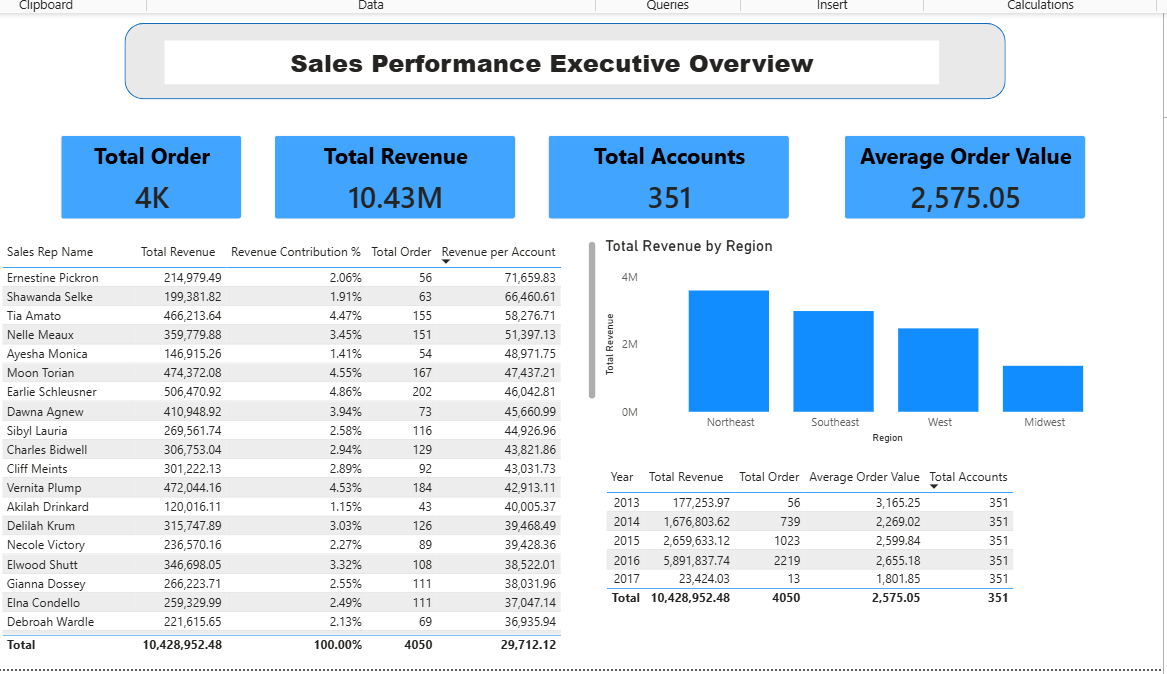

This screenshot's page, from the dashboard's own definition file:
{"tool":"powerbi","page":{"name":"Sales Performance Executive Overview","canvas":[1280,720],"ordinal":0},"visuals":[{"type":"shape","box":[140,11,967.4,83.7],"z":1000,"group":"g1"},{"type":"cardVisual","fields":{"Data":["orders.total order"]},"box":[52.1,116.6,234.6,127.6],"z":1000},{"type":"textbox","box":[183.9,30.2,850.8,48],"z":2000,"group":"g1"},{"type":"cardVisual","fields":{"Data":["orders.Total Revenue"]},"box":[286.8,116.6,300.5,127.6],"z":2000},{"type":"cardVisual","fields":{"Data":["accounts.Total Accounts"]},"box":[587.3,116.6,300.5,127.6],"z":3000},{"type":"cardVisual","fields":{"Data":["orders.Average Order Value"]},"box":[912.5,116.6,300.5,127.6],"z":4000},{"type":"clusteredColumnChart","title":"Total Revenue by Region","fields":{"Category":["region.name"],"Y":["orders.Total Revenue"]},"box":[662.8,245.6,584.6,231.9],"z":5000},{"type":"group","id":"g1","title":"Group 1","box":[140,11,967.4,83.7],"z":7000},{"type":"tableEx","fields":{"Values":["DateTable.Date.Variation.Date Hierarchy.Year","orders.Total Revenue","orders.Total Order","orders.Average Order Value","accounts.Total Accounts"]},"box":[662.8,492.6,550.3,227.8],"z":7001},{"type":"tableEx","fields":{"Values":["sales_reps.Sales Rep Name","orders.Total Revenue","orders.Revenue Contribution %","orders.Total Order","orders.Revenue per Account"]},"box":[0,245.6,662.8,462.4],"z":7002}]}

Visuals, with their boxes on the page's 1280x720 design canvas (x1, y1, x2, y2). These are canvas units, not pixel positions in the 1167x674 screenshot, which may show the page scaled, cropped or inside an application window:
shape: 140 11 1107 95
cardVisual - orders.total order: 52 117 287 244
textbox: 184 30 1035 78
cardVisual - orders.Total Revenue: 287 117 587 244
cardVisual - accounts.Total Accounts: 587 117 888 244
cardVisual - orders.Average Order Value: 912 117 1213 244
"Total Revenue by Region" clusteredColumnChart: 663 246 1247 478
"Group 1" group: 140 11 1107 95
tableEx - DateTable.Date.Variation.Date Hierarchy.Year x orders.Total Revenue: 663 493 1213 720
tableEx - sales_reps.Sales Rep Name x orders.Total Revenue: 0 246 663 708
